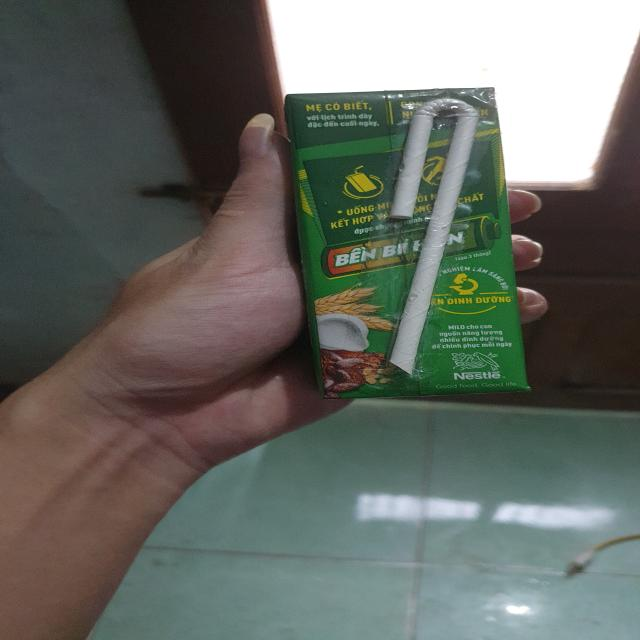Milo: (280, 84, 543, 406)
